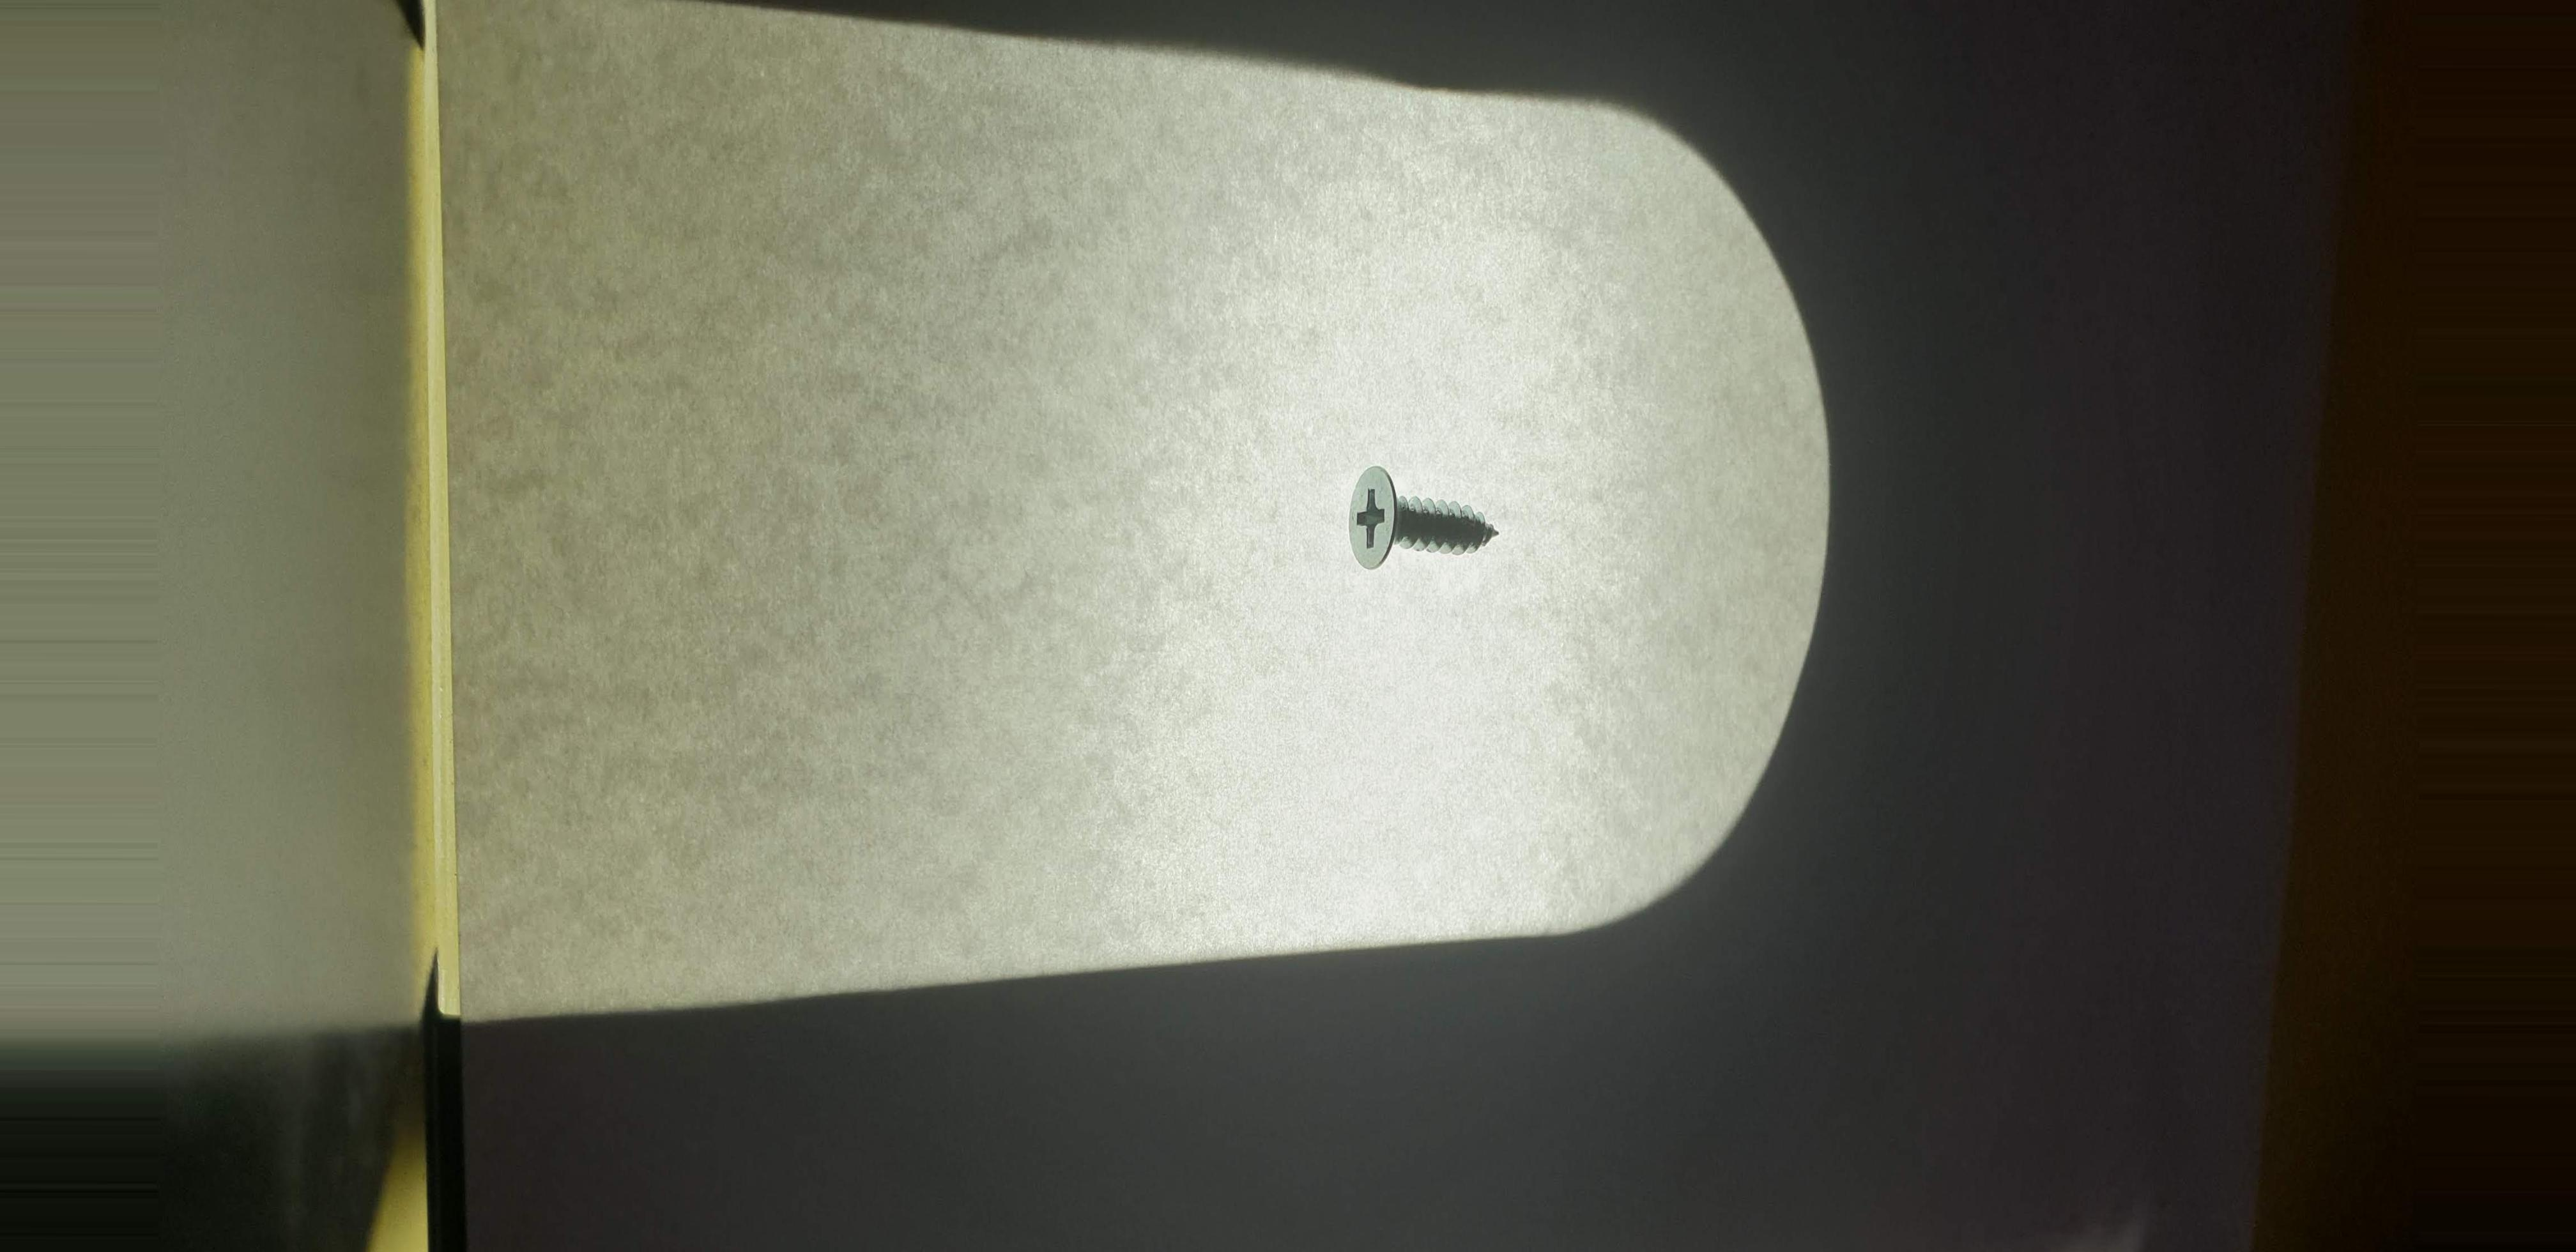S003: (1306, 440, 1538, 595)
